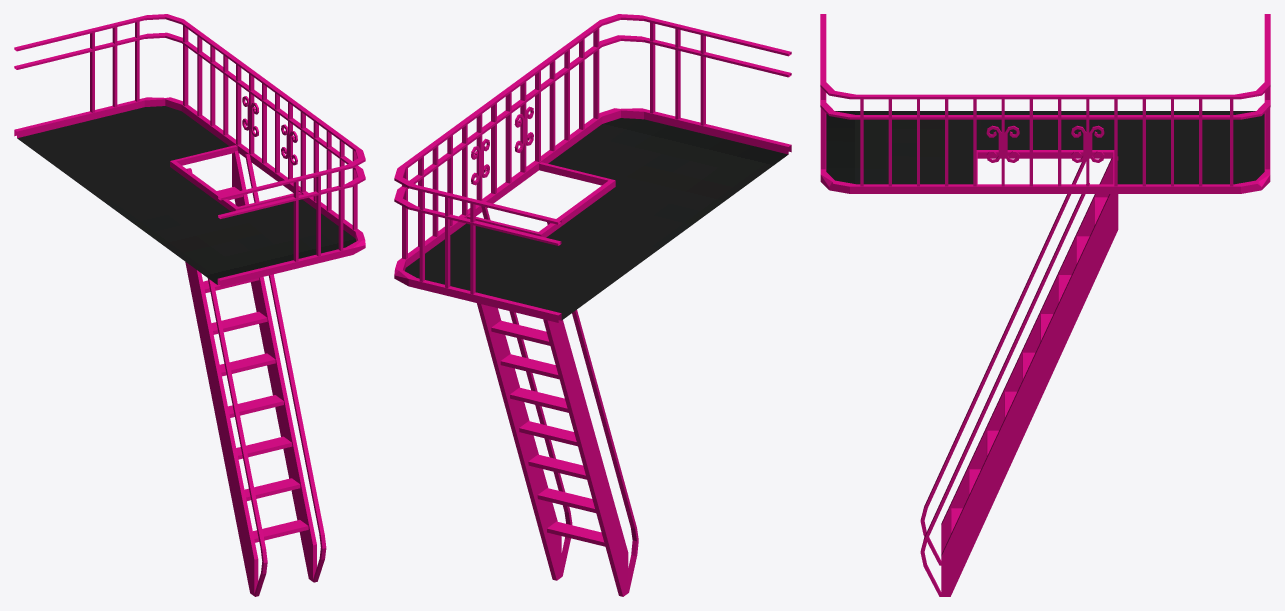
Rendered from FireEscape.fbx.
3 renders of one model, left to right at view 1: azimuth 30°, elevation 25°; view 2: azimuth 150°, elevation 25°; view 3: azimuth 270°, elevation 25°, orthographic. The views are drawn at different scales.
Parts seen in each view (by area): view 1: SM_FireEscape_01.mo; view 2: SM_FireEscape_01.mo; view 3: SM_FireEscape_01.mo.
Part boxes in pixels (x1,y1,x2,y2): SM_FireEscape_01.mo: [14, 14, 365, 596]; SM_FireEscape_01.mo: [394, 14, 791, 596]; SM_FireEscape_01.mo: [820, 14, 1270, 596].
Bounding box in the file's own units: 131 × 369 × 300.
